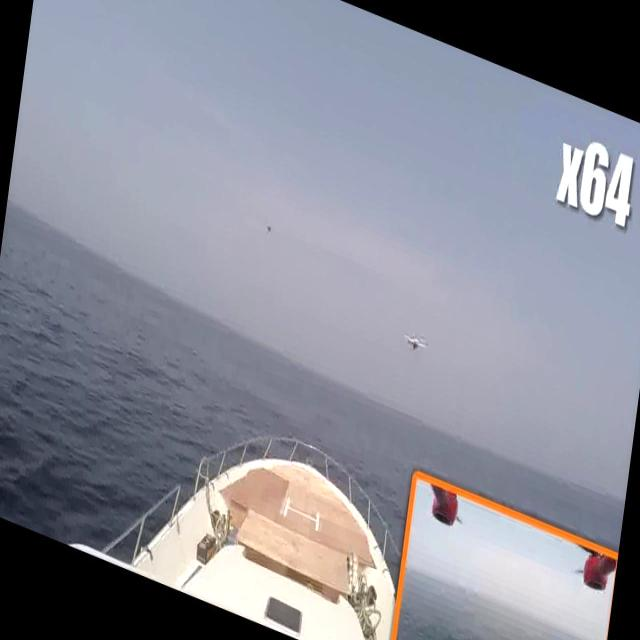drone: (398, 320, 431, 365)
